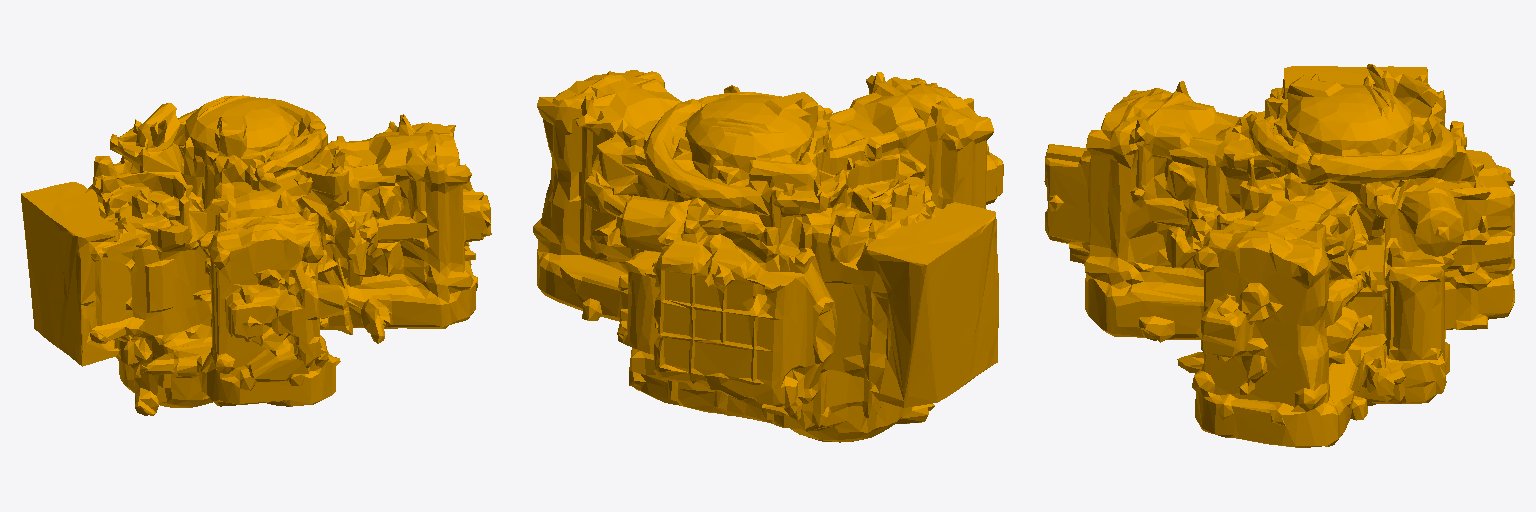
URDF robot description (engine_5000.off):
<?xml version="1.0"?>
<robot name="engine_5000.off">
	<link name="engine_5000.off">
		<inertial>
			<!--origin xyz="0 0 0" rpy="0 0 0" /-->
			<mass value="0.5" />
			<!--inertia ixx="0.000360" ixy="0" ixz="0" iyy="0.0000615" iyz="0" izz="0.00036" /-->
		</inertial>
    		<visual>
	      		<!--origin rpy="0 0 0" xyz="0 0 0"/-->
      			<geometry>
        			<mesh filename="engine_5000.off.obj"/>
      			</geometry>
         	</visual>
    		<collision>
      			<!--origin rpy="0 0 0" xyz="0 0 0"/-->
      			<geometry>
        			<mesh filename="engine_5000.off.obj"/>
      			</geometry>
    		</collision>
	</link>
</robot>

--- Facts derived from the render (not from the file) ---
3 views of the same robot in one strip: view 1: azimuth 30°, elevation 25°; view 2: azimuth 150°, elevation 25°; view 3: azimuth 270°, elevation 25° (orthographic).
Model engine_5000.off with 1 links and 0 joints (none), rooted at engine_5000.off, posed all joints at 0.
Links seen in each view (by area): view 1: engine_5000.off; view 2: engine_5000.off; view 3: engine_5000.off.
Link boxes in pixels (box(x1,y1,x2,y2)): engine_5000.off: box(21, 95, 491, 415); engine_5000.off: box(533, 70, 1003, 442); engine_5000.off: box(1044, 64, 1514, 447).
Bounding box of the posed robot: 0.6478 × 0.5815 × 0.43 m (x, y, z).
Meshes: 1 distinct files referenced, 1 mesh visuals loaded (1 OBJ).